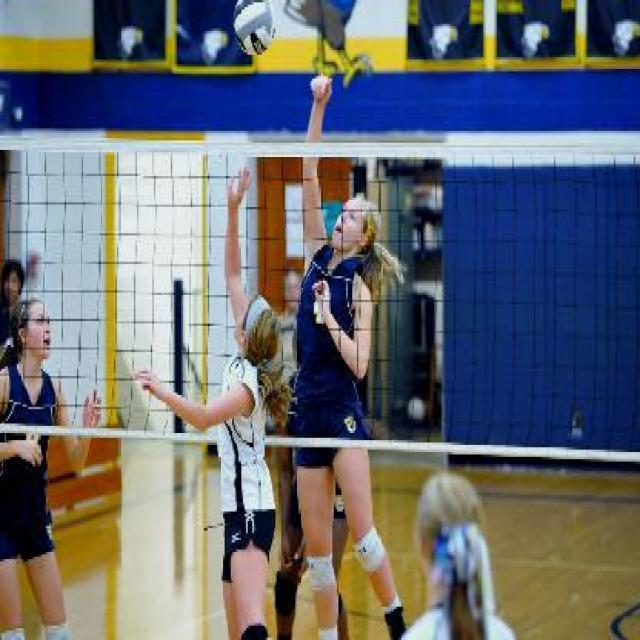volleyball: (234, 1, 275, 54)
